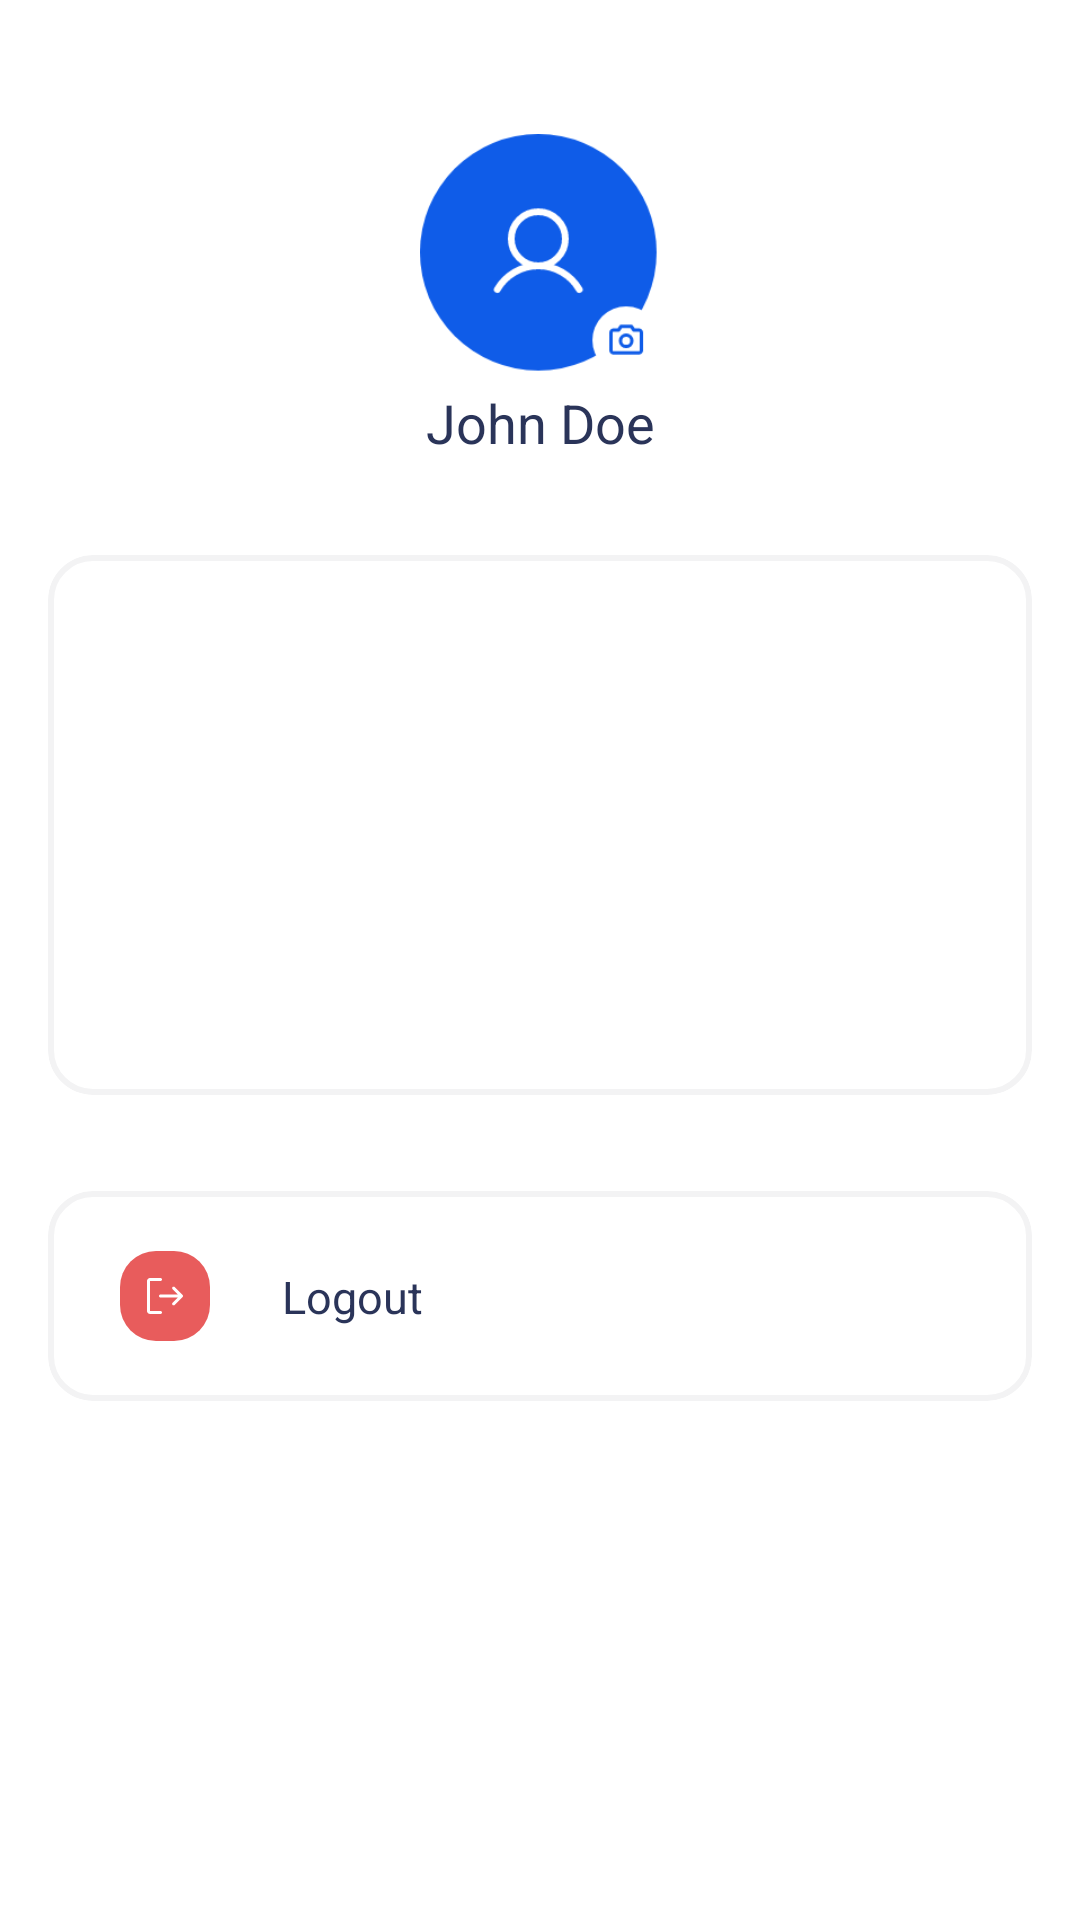

Where to tap for icons on this 1080 × 1920 app screen, as [x,y]:
profile: [538,252]
